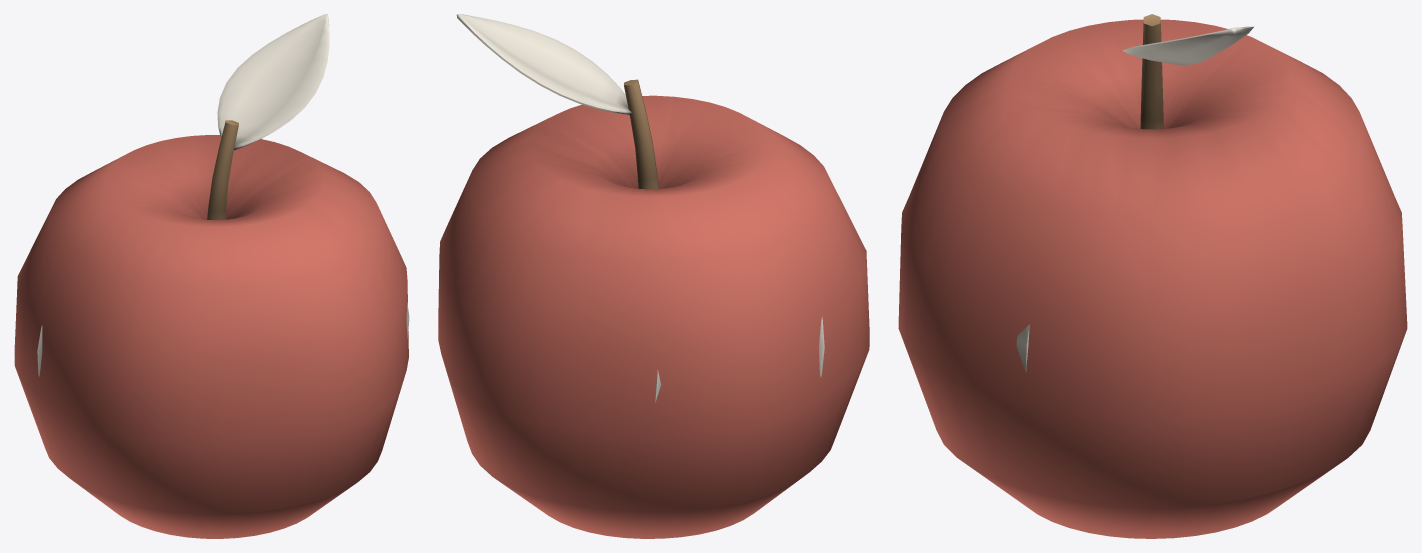
The model's file is food_apple.glb.
The picture shows the model from 3 angles, left to right: view 1: azimuth 30°, elevation 25°; view 2: azimuth 150°, elevation 25°; view 3: azimuth 270°, elevation 25°; orthographic projection. The views are drawn at different scales.
Visible parts, largest first — view 1: PART; view 2: PART; view 3: PART.
Part boxes in pixels (box(x1,y1,x2,y2)): PART: box(14, 14, 409, 538); PART: box(438, 14, 869, 538); PART: box(898, 14, 1407, 538).
Size of the model in its own units: 0.0798 by 0.0931 by 0.0795.
